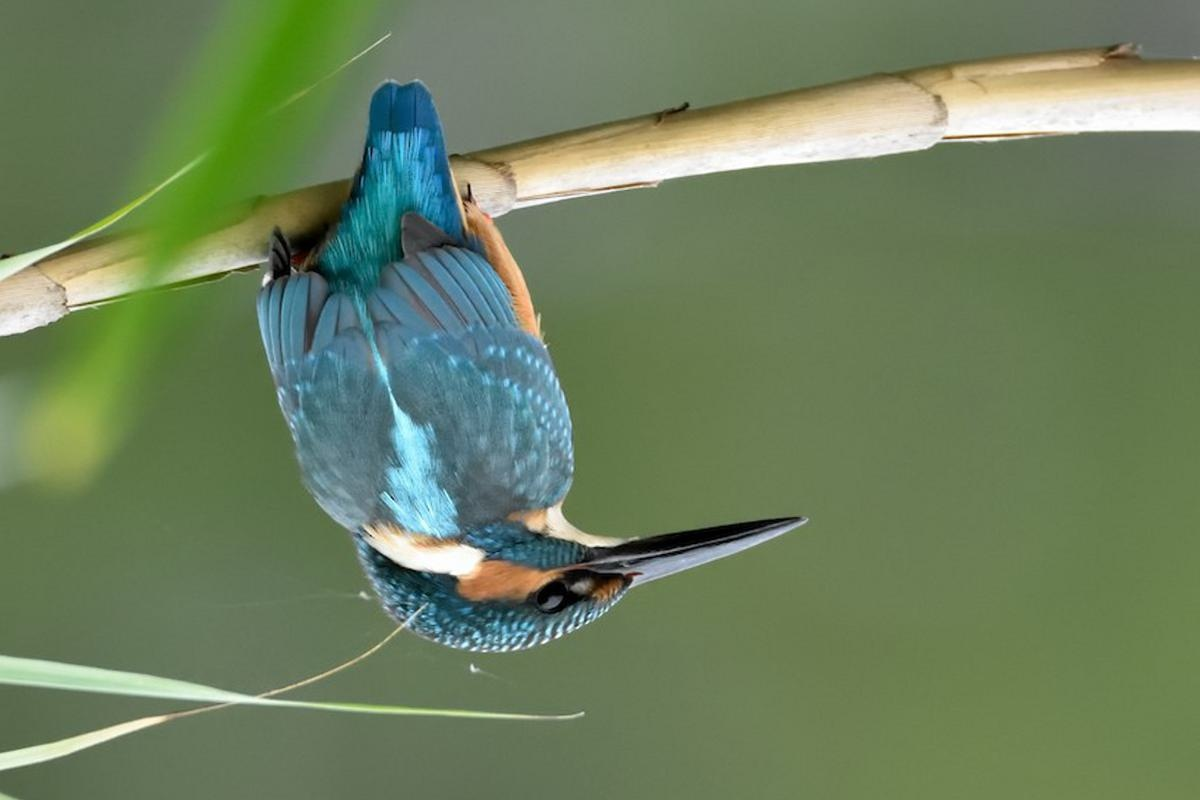kingfisher: (252, 80, 809, 659)
